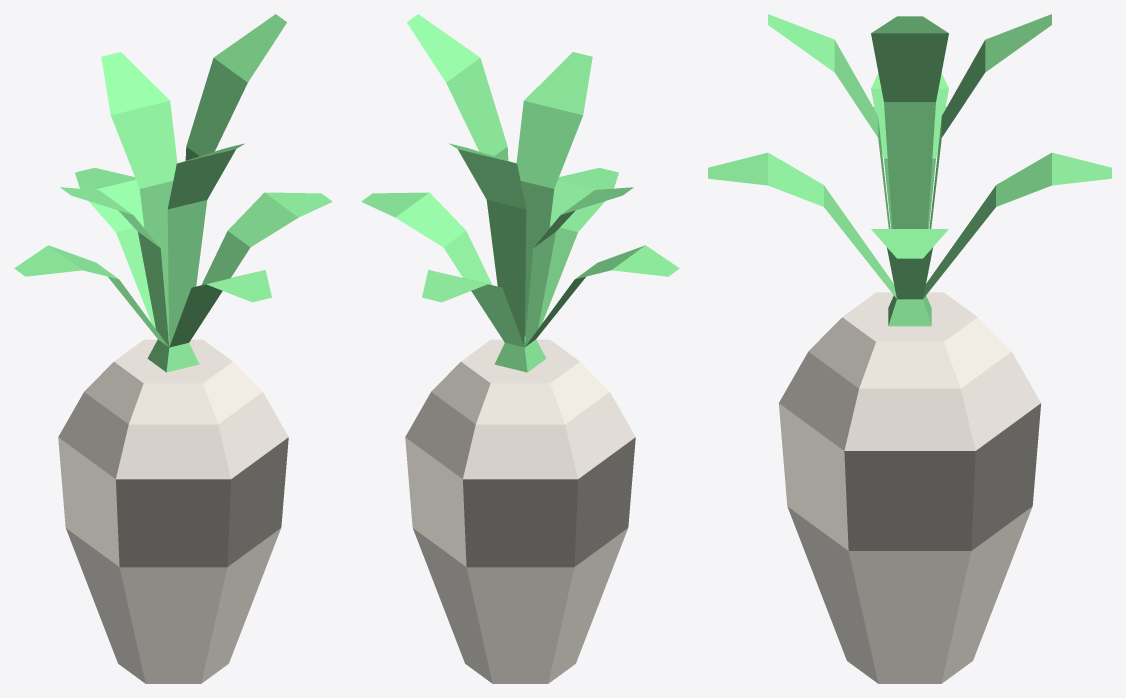
File: 16_whiteRadish.fbx
3 views of the same model, side by side, from view 1: azimuth 30°, elevation 25°; view 2: azimuth 150°, elevation 25°; view 3: azimuth 270°, elevation 25° (orthographic). The views are drawn at different scales.
Visible parts, largest first — view 1: crop_turnip; view 2: crop_turnip; view 3: crop_turnip.
Boxes of the visible parts, x1,y1,x2,y2 form: crop_turnip: (14, 14, 332, 683); crop_turnip: (361, 14, 679, 683); crop_turnip: (708, 14, 1111, 683).
Size of the model in its own units: 3.43 by 6.61 by 3.43.
